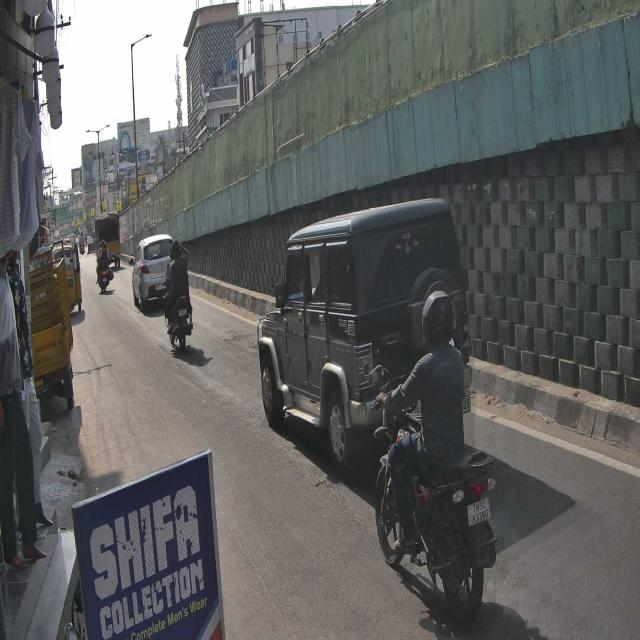single_rider: (369, 287, 498, 626)
